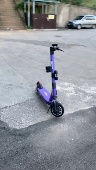beam: (33, 43, 71, 117)
